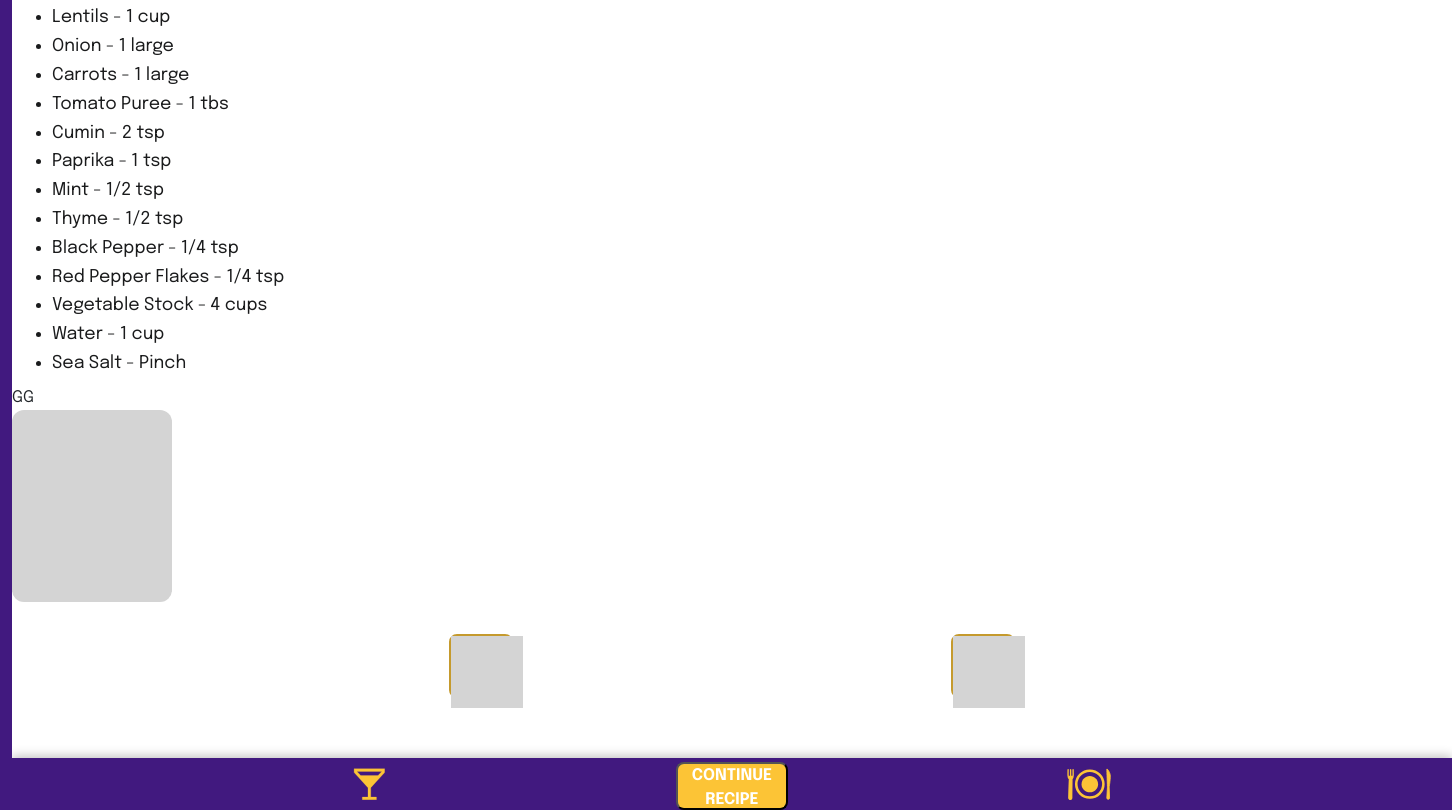
Testando comportamento do Recipes Details › Testa se o usuário clicar para compartilhar o link é copiado para o clipboard
(page scrolled)
Click the 1st button named "share recipe": point(481, 666) left=449, top=634, right=513, bottom=698
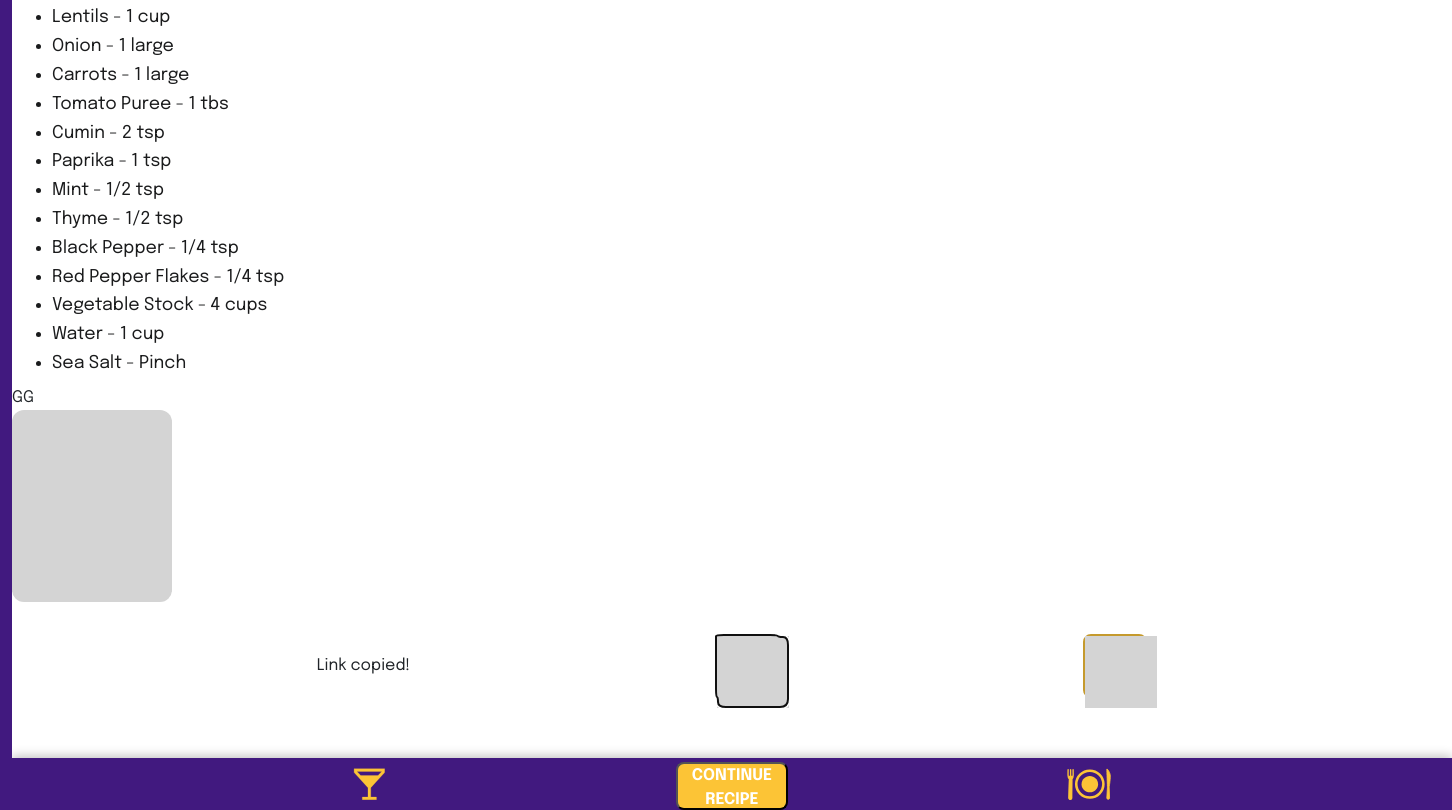
expect the text "Link copied!" is shown: met, box left=317, top=654, right=410, bottom=678
